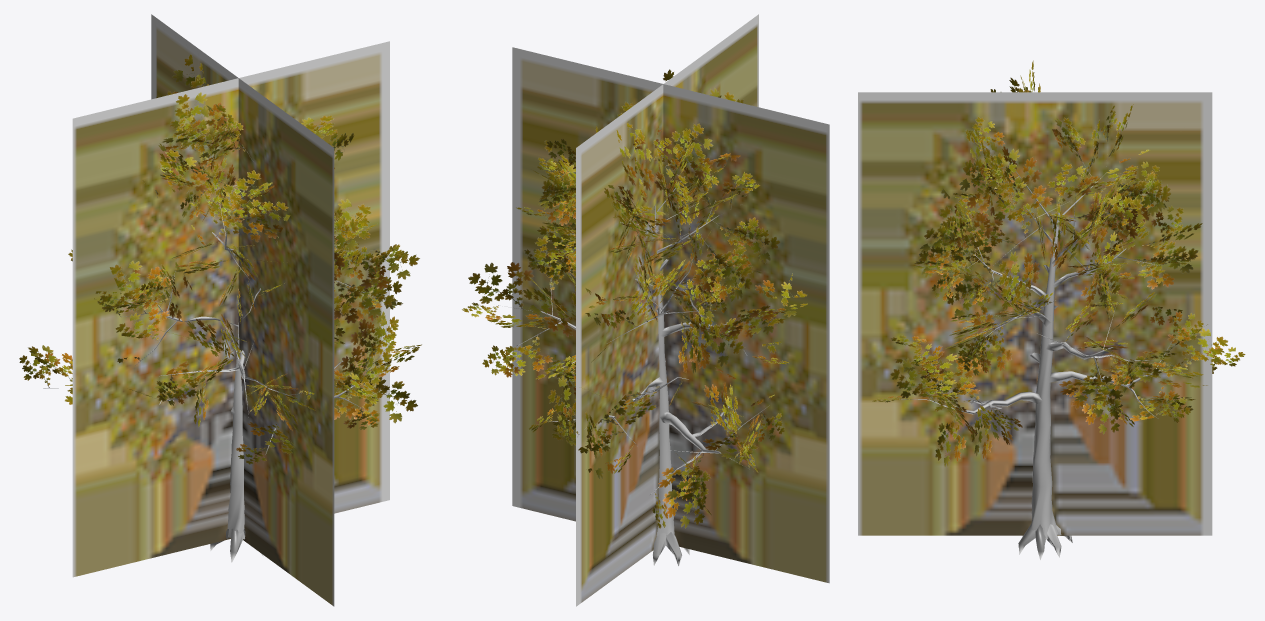
The model's file is Tree-Maple1B.fbx.
3 renders of one model, left to right at view 1: azimuth 30°, elevation 25°; view 2: azimuth 150°, elevation 25°; view 3: azimuth 270°, elevation 25°, orthographic. The views are drawn at different scales.
Parts seen in each view (by area): view 1: Billboard-MapleB, Tree-Maple1B_LOD0; view 2: Billboard-MapleB, Tree-Maple1B_LOD0; view 3: Billboard-MapleB, Tree-Maple1B_LOD0.
Part boxes in pixels (x1,y1,x2,y2): Billboard-MapleB: (72, 14, 389, 606); Tree-Maple1B_LOD0: (19, 54, 421, 562); Billboard-MapleB: (512, 14, 829, 606); Tree-Maple1B_LOD0: (462, 69, 807, 566); Billboard-MapleB: (858, 92, 1212, 535); Tree-Maple1B_LOD0: (872, 60, 1245, 559).
Size of what is drawn, in the model's own units: 1620 by 2279 by 1741.
